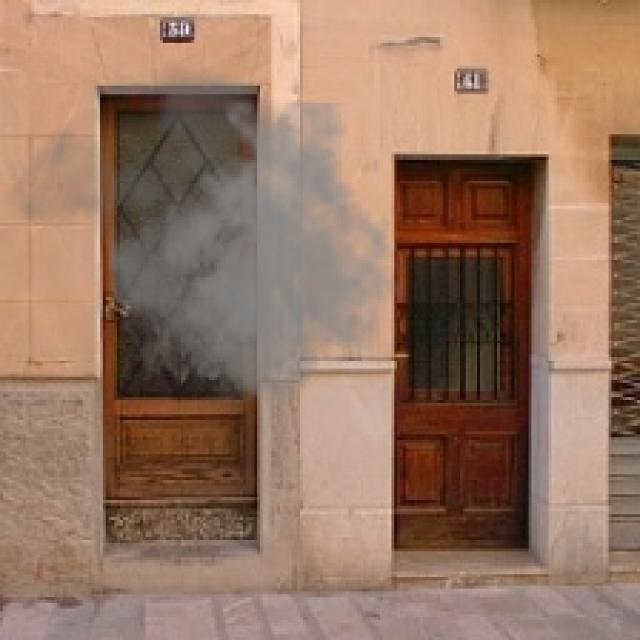smoke: (3, 57, 403, 423)
